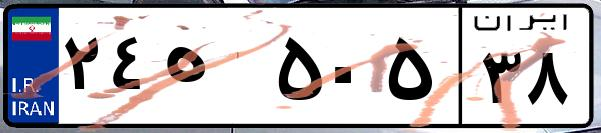0: (330, 28, 385, 110)
2: (57, 26, 110, 100)
3: (475, 38, 525, 113)
4: (110, 28, 158, 98)
5: (270, 28, 330, 110), (385, 28, 445, 110)
8: (525, 38, 570, 115)
ه: (158, 20, 270, 120)
